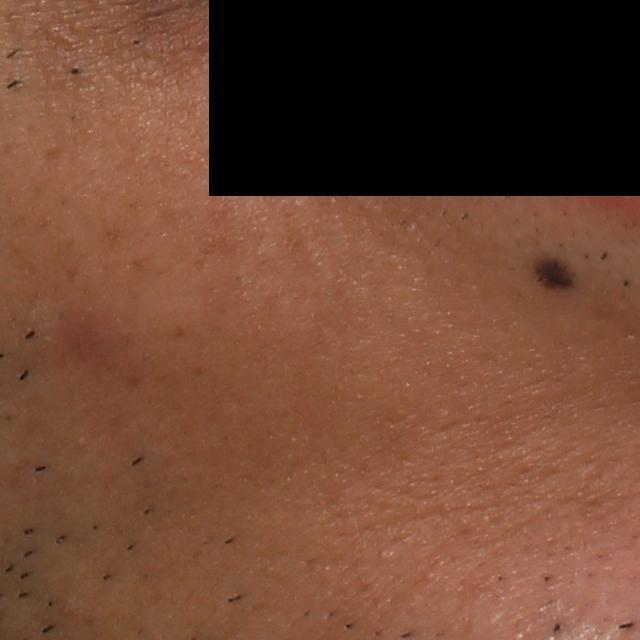nevus: (537, 259, 577, 292)
